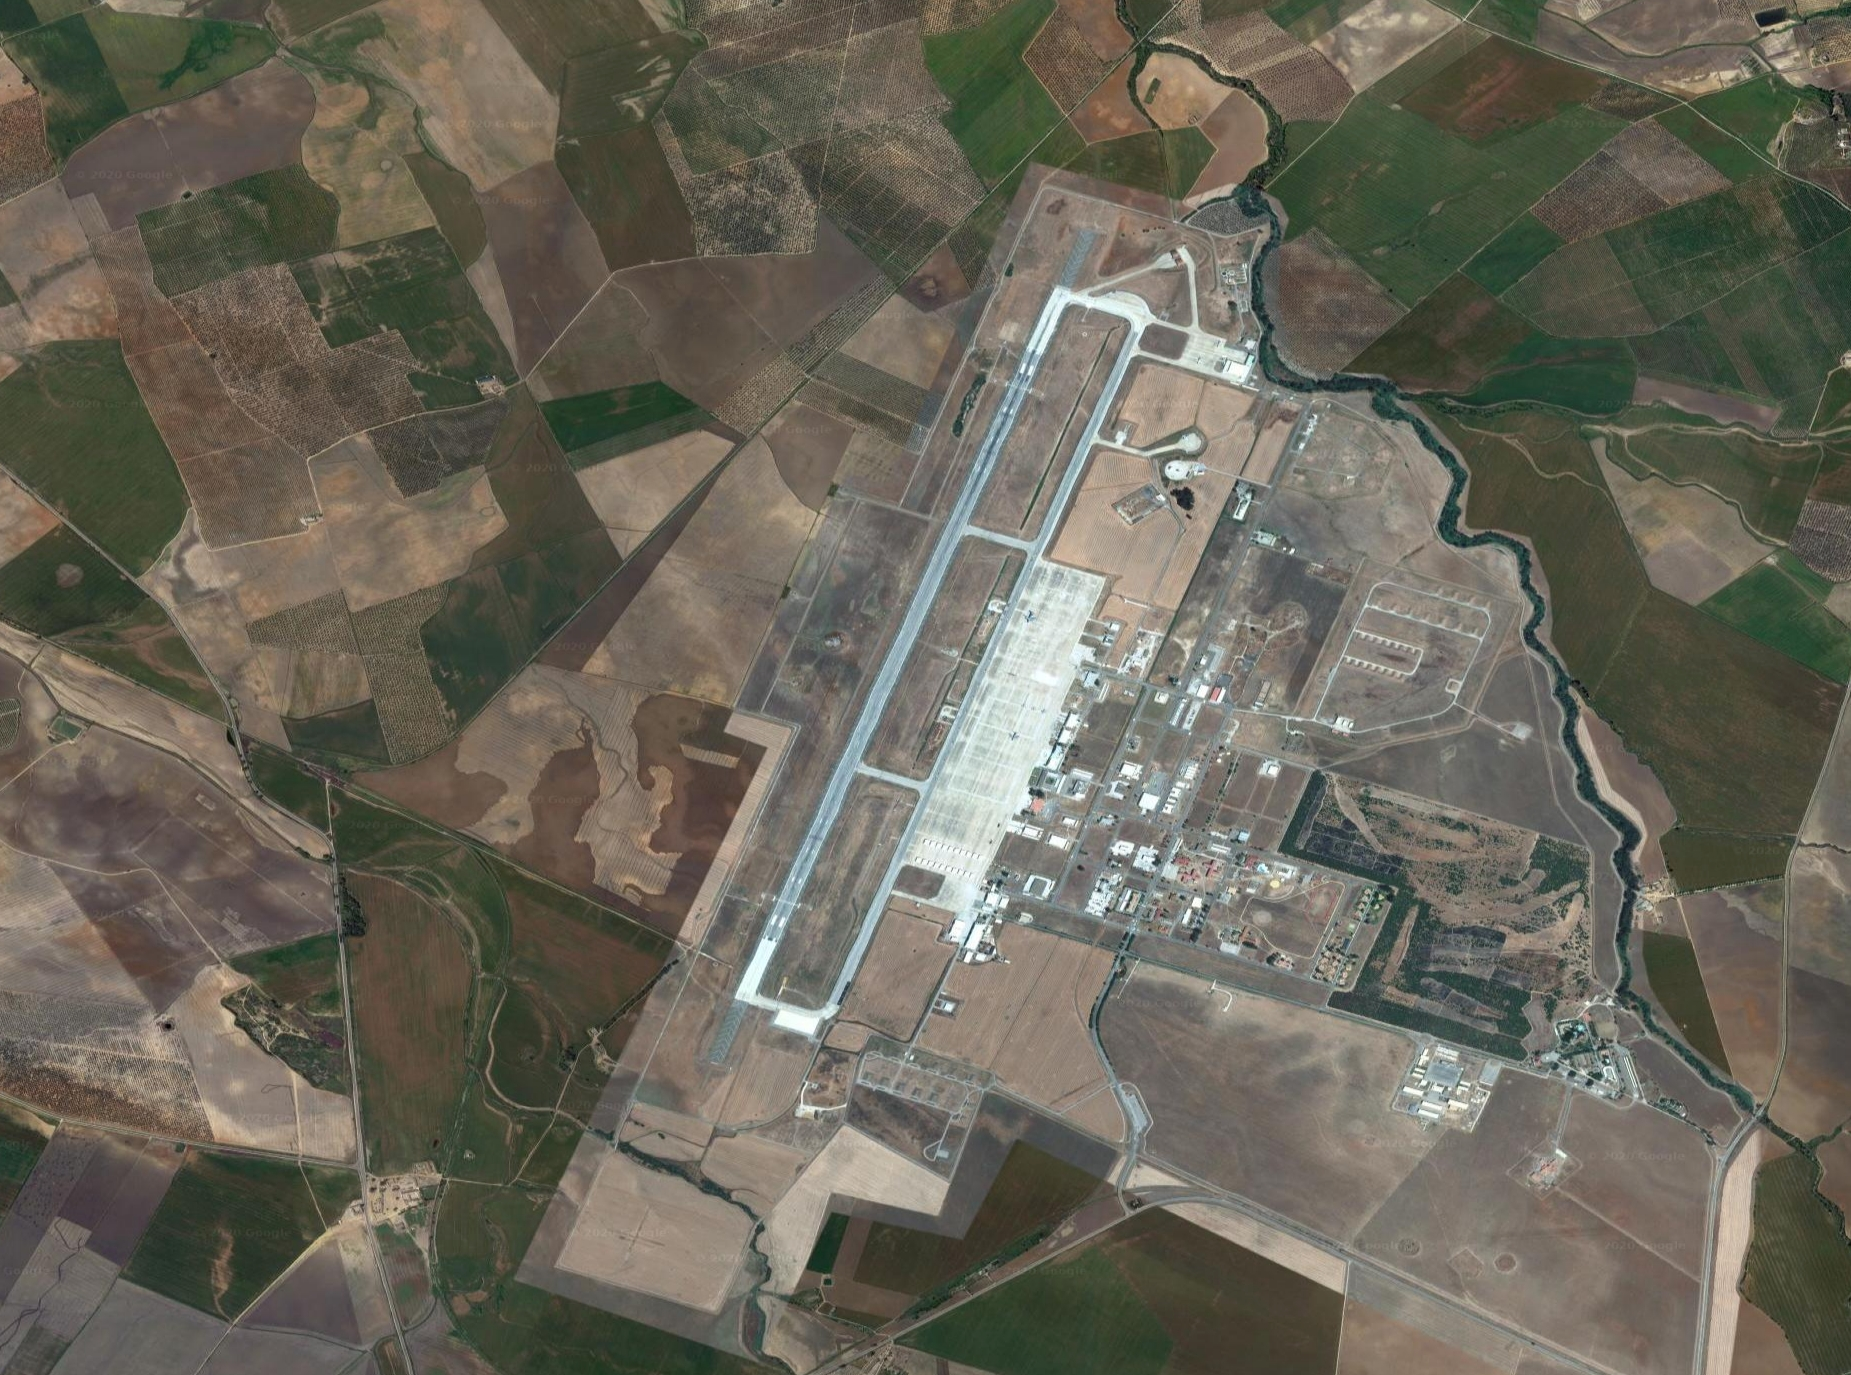airport: (702, 222, 1260, 1070)
motorway: (1721, 1066, 1782, 1161), (1504, 1326, 1598, 1375), (1408, 1275, 1502, 1324), (1310, 1229, 1403, 1278), (1216, 1194, 1310, 1244), (1119, 1176, 1213, 1225), (1025, 1222, 1119, 1271), (931, 1268, 1025, 1317), (835, 1314, 928, 1363), (1697, 1132, 1725, 1262), (1688, 1254, 1714, 1375)
